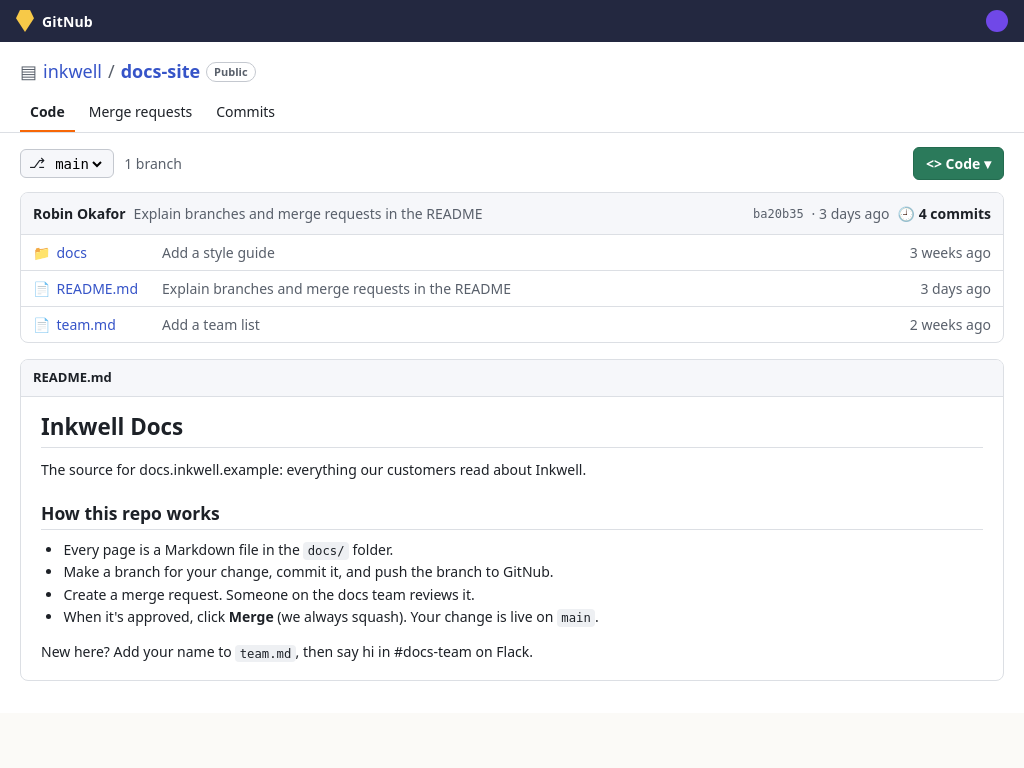
it: GitNub repo page › opens folders
Click the link "docs": (72, 252) [56,243,87,262]
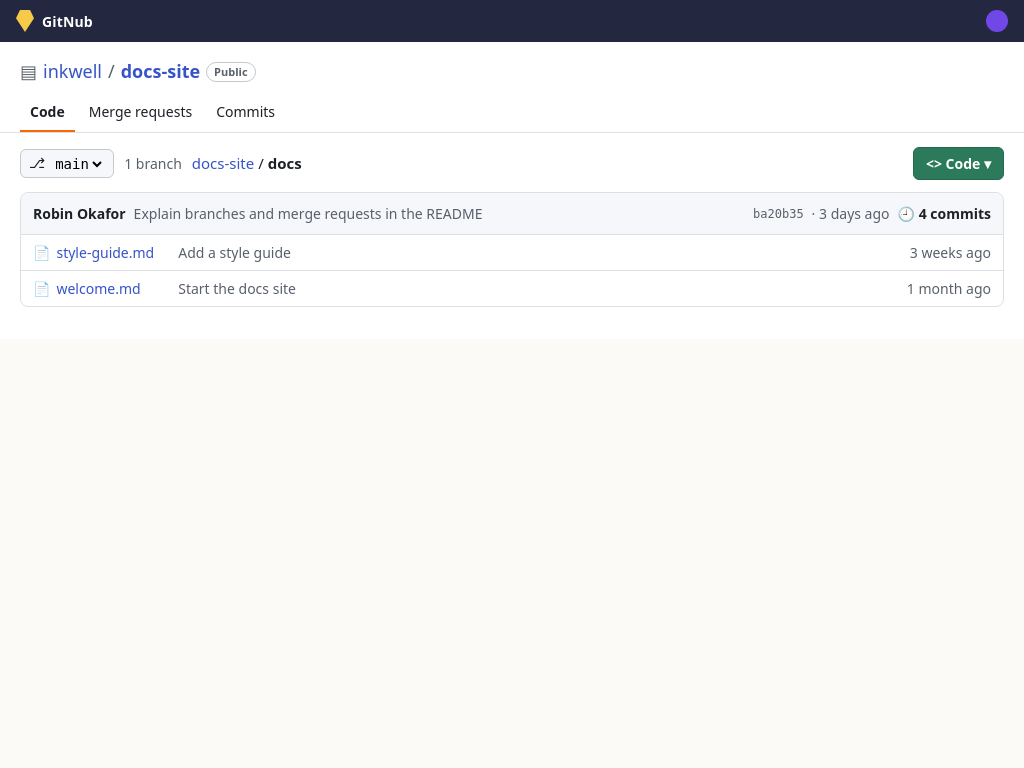
Now the links read "style-guide.md", "welcome.md", in this order, box [56,243,154,262]; [56,279,141,298]
